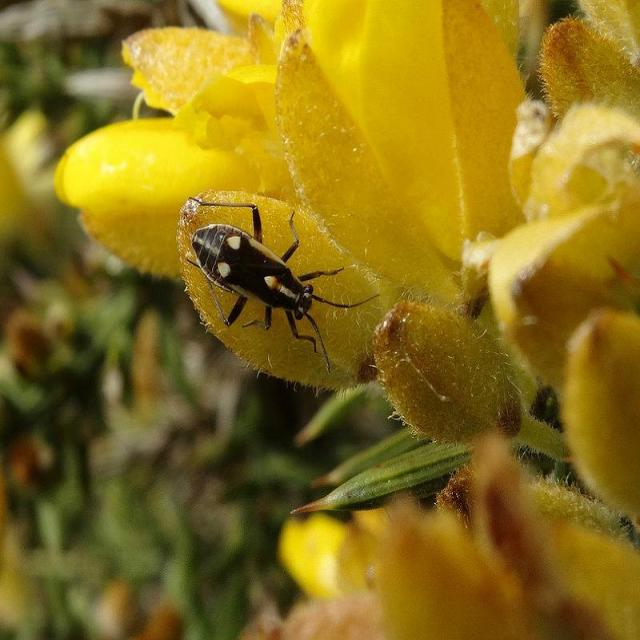Miridae-Adult-: (185, 180, 351, 371)
